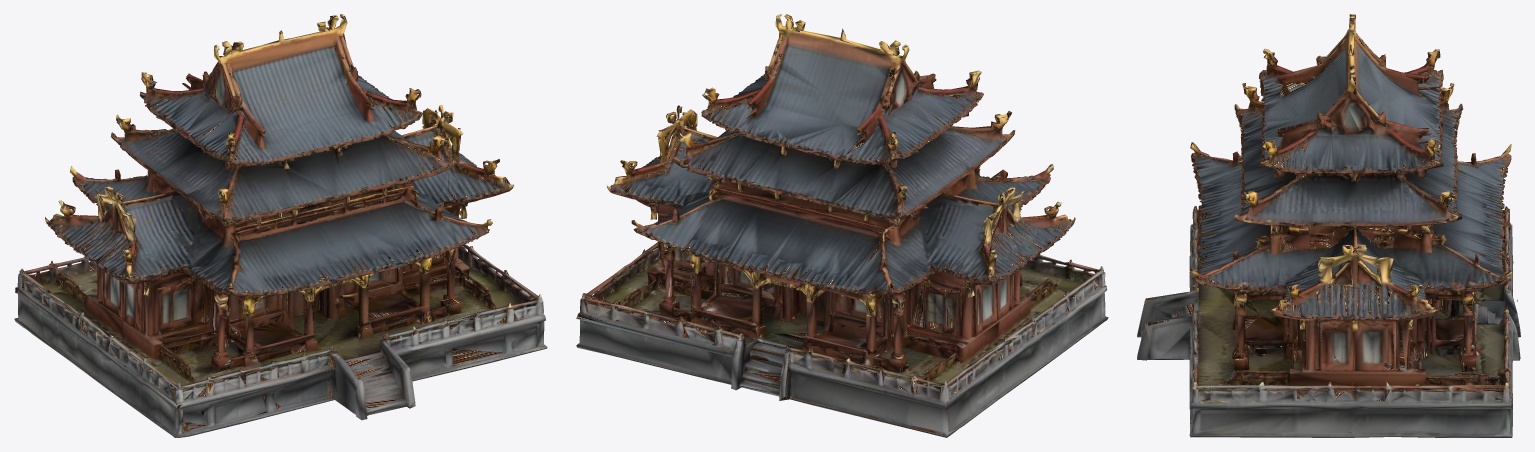
The model's file is bq_alchemy_hall.glb.
The picture shows the model from 3 angles, left to right: view 1: azimuth 30°, elevation 25°; view 2: azimuth 150°, elevation 25°; view 3: azimuth 270°, elevation 25°; orthographic projection.
Visible parts, largest first — view 1: Mesh_0; view 2: Mesh_0; view 3: Mesh_0.
Boxes of the visible parts, <box> form: Mesh_0: <box>14,14,547,437</box>; Mesh_0: <box>576,14,1108,437</box>; Mesh_0: <box>1137,14,1520,437</box>.
Size of the model in its own units: 1.9 by 1.43 by 1.64.
1 material, 1 textured.
